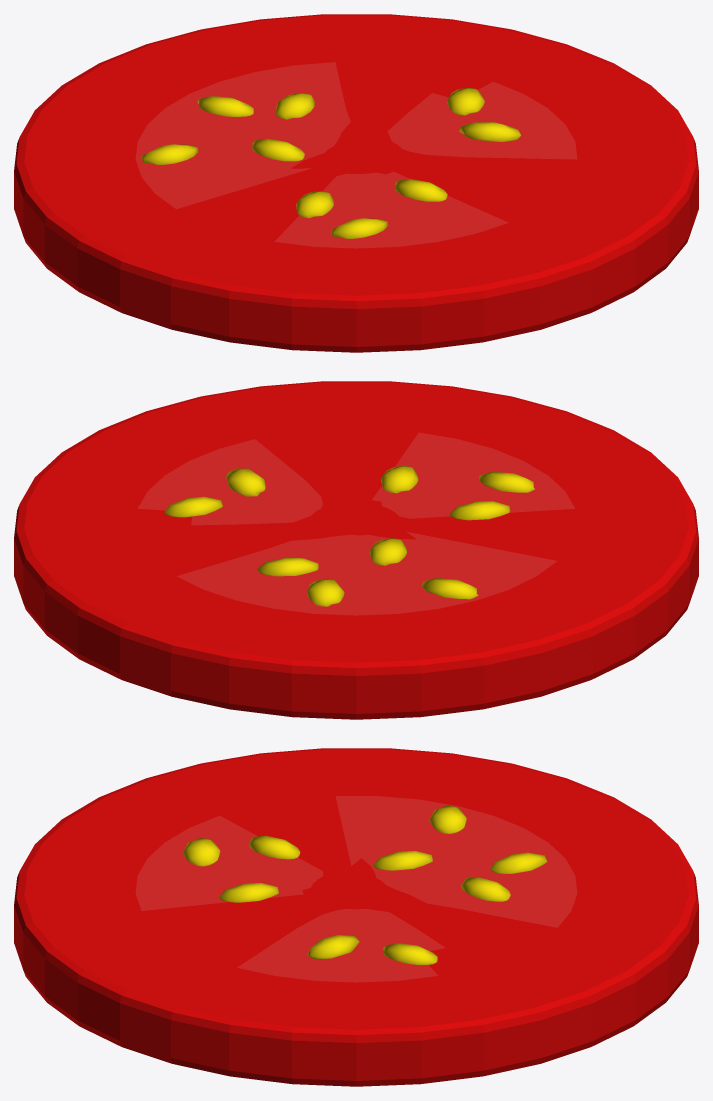
File: Tomato slice.obj
3 renders of one model, top to bottom at view 1: azimuth 30°, elevation 25°; view 2: azimuth 150°, elevation 25°; view 3: azimuth 270°, elevation 25°, orthographic.
Parts seen in each view (by area): view 1: Cylinder002, Sphere017, Sphere016, Sphere010, Sphere014, Sphere013, Sphere018, Sphere015, Sphere011, Sphere012; view 2: Cylinder002, Sphere012, Sphere015, Sphere011, Sphere013, Sphere018, Sphere017, Sphere014, Sphere010, Sphere016; view 3: Cylinder002, Sphere017, Sphere010, Sphere014, Sphere011, Sphere016, Sphere015, Sphere012, Sphere018, Sphere013.
Boxes of the visible parts, bbox=[...] form: Cylinder002: bbox=[14, 14, 698, 352]; Sphere017: bbox=[459, 122, 520, 141]; Sphere016: bbox=[197, 96, 253, 116]; Sphere010: bbox=[394, 179, 447, 201]; Sphere014: bbox=[251, 138, 304, 161]; Sphere013: bbox=[141, 144, 198, 164]; Sphere018: bbox=[331, 218, 388, 238]; Sphere015: bbox=[296, 191, 333, 218]; Sphere011: bbox=[447, 87, 484, 115]; Sphere012: bbox=[276, 93, 314, 119]; Cylinder002: bbox=[14, 381, 698, 719]; Sphere012: bbox=[257, 557, 318, 576]; Sphere015: bbox=[449, 501, 510, 520]; Sphere011: bbox=[164, 496, 222, 517]; Sphere013: bbox=[422, 578, 478, 599]; Sphere018: bbox=[479, 471, 534, 492]; Sphere017: bbox=[226, 468, 265, 496]; Sphere014: bbox=[369, 538, 406, 565]; Sphere010: bbox=[381, 465, 418, 493]; Sphere016: bbox=[307, 579, 344, 606]; Cylinder002: bbox=[14, 748, 698, 1086]; Sphere017: bbox=[307, 935, 359, 959]; Sphere010: bbox=[219, 883, 278, 902]; Sphere014: bbox=[373, 851, 432, 870]; Sphere011: bbox=[383, 943, 437, 964]; Sphere016: bbox=[490, 852, 547, 873]; Sphere015: bbox=[248, 835, 300, 859]; Sphere012: bbox=[461, 877, 510, 901]; Sphere018: bbox=[183, 837, 220, 866]; Sphere013: bbox=[429, 805, 466, 833].
Size of the model in its own units: 1679227 by 173684 by 1681131.
